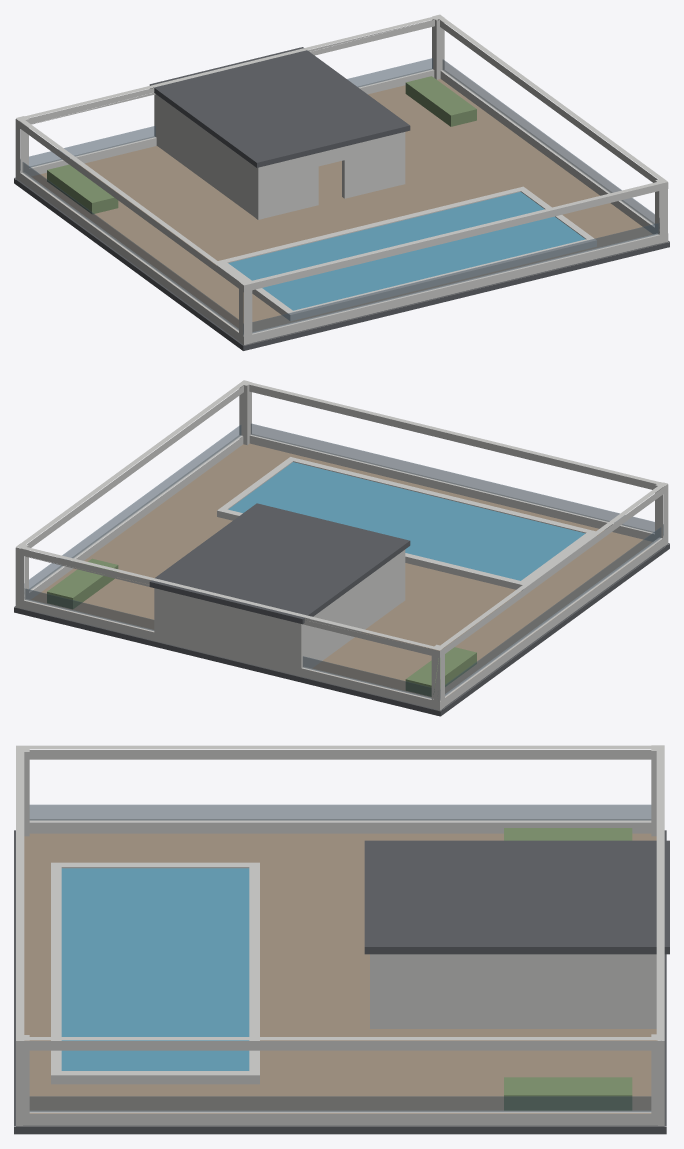
The model's file is condo-roof-b.glass-v2.lod1.glb.
3 renders of one model, top to bottom at view 1: azimuth 30°, elevation 25°; view 2: azimuth 150°, elevation 25°; view 3: azimuth 270°, elevation 25°, orthographic. The views are drawn at different scales.
Visible parts, largest first — view 1: condo-roof-b; view 2: condo-roof-b; view 3: condo-roof-b.
Part boxes in pixels (x1,y1,x2,y2): condo-roof-b: [14, 14, 669, 350]; condo-roof-b: [14, 380, 669, 716]; condo-roof-b: [14, 745, 669, 1134].
Bounding box in the file's own units: 26.16 × 3.86 × 24.48.
